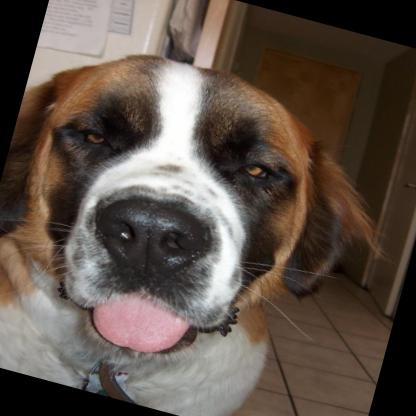Saint_Bernard: (0, 23, 406, 416)
